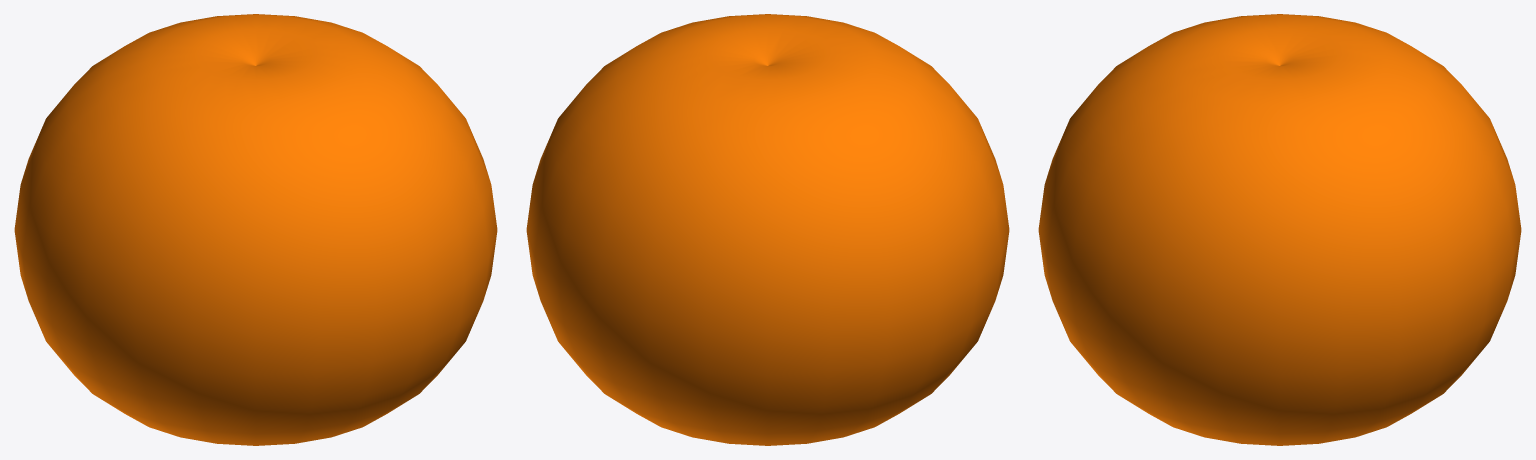
3 renders of one model, left to right at view 1: azimuth 30°, elevation 25°; view 2: azimuth 150°, elevation 25°; view 3: azimuth 270°, elevation 25°, orthographic.
Parts seen in each view (by area): view 1: SketchUp; view 2: SketchUp; view 3: SketchUp.
Part boxes in pixels (x1=…): SketchUp: x1=14, y1=14, x2=497, y2=445; SketchUp: x1=526, y1=14, x2=1009, y2=445; SketchUp: x1=1038, y1=14, x2=1521, y2=445.
Size of the model in its own units: 194 by 194 by 156.
